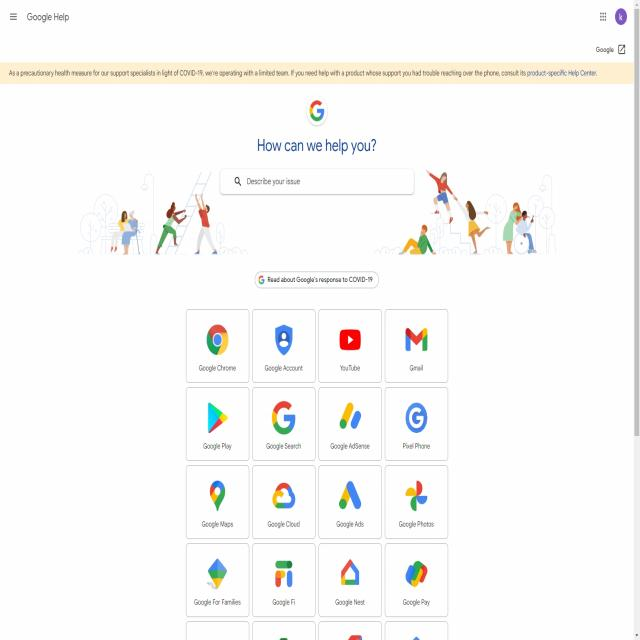menu-bar: (594, 4, 629, 28), (6, 6, 20, 26)
search: (218, 165, 416, 196)
